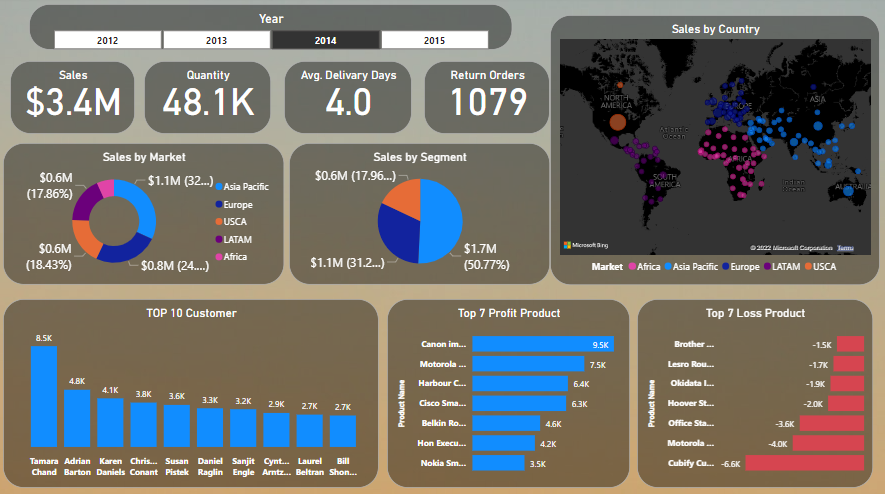

The page's visual inventory and layout, read from the dashboard file:
{"tool":"powerbi","page":{"name":"Page 1","canvas":[1280,720],"ordinal":0},"visuals":[{"type":"card","title":"Sales","fields":{"Values":["Orders.Sales"]},"box":[14.4,92.2,180,105.1],"z":0},{"type":"card","title":"Quantity","fields":{"Values":["Orders.Quantity"]},"box":[207.4,92.2,182.9,105.1],"z":1000},{"type":"card","title":"Avg. Delivary Days","fields":{"Values":["Orders.Delivery date"]},"box":[409,92.2,184.3,105.1],"z":2000},{"type":"slicer","title":"Year","fields":{"Values":["Orders.Year"]},"box":[41.8,10.1,695.5,66.2],"z":3000},{"type":"card","title":"Return Orders","fields":{"Values":["Returns.Return orders"]},"box":[610.6,92.2,181.4,105.1],"z":4000},{"type":"map","title":"Sales by Country","fields":{"Series":["Orders.Market"],"Size":["Orders.Sales"],"Category":["Orders.Country"]},"box":[792,25.9,475.2,388.8],"z":5000},{"type":"barChart","title":"Top 7 Profit Product","fields":{"Y":["Orders.Profit"],"Category":["Orders.Product Name"]},"box":[557.3,434.9,349.9,272.2],"z":6000},{"type":"barChart","title":"Top 7 Loss Product","fields":{"Y":["Orders.Profit"],"Category":["Orders.Product Name"]},"box":[917.3,434.9,339.8,272.2],"z":7000},{"type":"pieChart","title":"Sales by Segment","fields":{"Category":["Orders.Segment"],"Y":["Orders.Sales"]},"box":[416.2,210.2,375.8,204.5],"z":8000},{"type":"donutChart","title":"Sales by Market","fields":{"Category":["Orders.Market"],"Y":["Orders.Sales"]},"box":[4.3,210.2,404.6,204.5],"z":9000},{"type":"columnChart","title":"TOP 10 Customer","fields":{"Category":["Orders.Customer Name"],"Y":["Orders.Profit"]},"box":[5,435.1,540.9,272.1],"z":10000}]}

Visuals, with their boxes in screenshot pixels (x1, y1, x2, y2), scaled from the page's 1280x720 canvas onto the 885x494 screenshot:
"Sales" card: box(10, 63, 134, 135)
"Quantity" card: box(143, 63, 270, 135)
"Avg. Delivary Days" card: box(283, 63, 410, 135)
"Year" slicer: box(29, 7, 510, 52)
"Return Orders" card: box(422, 63, 548, 135)
"Sales by Country" map: box(548, 18, 876, 285)
"Top 7 Profit Product" barChart: box(385, 298, 627, 485)
"Top 7 Loss Product" barChart: box(634, 298, 869, 485)
"Sales by Segment" pieChart: box(288, 144, 548, 285)
"Sales by Market" donutChart: box(3, 144, 283, 285)
"TOP 10 Customer" columnChart: box(3, 299, 377, 485)
